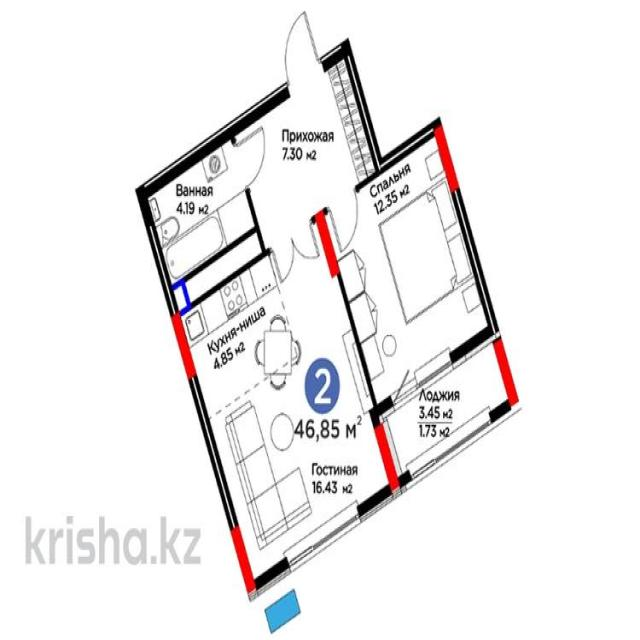balcony: (377, 339, 516, 490)
bathroom: (140, 132, 267, 316)
hallway: (234, 48, 379, 255)
living_room: (319, 124, 497, 417)
studio: (174, 212, 396, 594)
